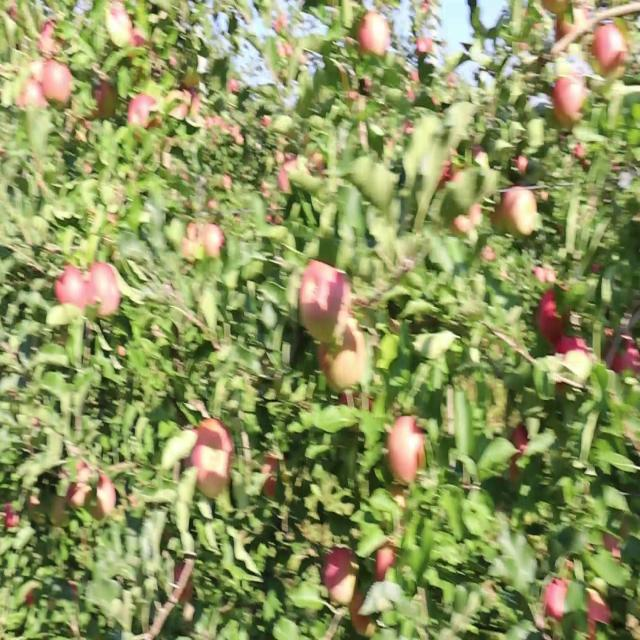apple: (188, 419, 236, 501), (300, 263, 345, 334), (388, 419, 427, 485), (324, 547, 358, 610), (552, 78, 586, 132), (88, 263, 121, 318), (596, 21, 628, 76), (340, 284, 365, 354), (332, 348, 368, 396), (360, 14, 392, 59), (556, 7, 591, 48), (540, 291, 566, 345), (44, 63, 73, 107), (340, 305, 366, 354), (56, 270, 87, 311), (128, 92, 156, 137), (508, 426, 530, 482), (352, 590, 377, 638), (588, 590, 612, 638), (64, 469, 92, 510), (172, 561, 195, 608), (612, 341, 640, 379), (20, 71, 47, 108), (376, 540, 399, 583), (544, 583, 568, 624), (516, 191, 537, 236), (556, 334, 591, 361), (452, 206, 483, 236), (436, 156, 463, 190), (40, 21, 64, 59), (96, 78, 118, 119), (96, 476, 116, 521), (72, 462, 92, 505), (264, 455, 282, 500), (20, 78, 47, 108), (68, 476, 91, 510), (280, 156, 299, 196), (204, 227, 225, 261), (556, 334, 584, 359), (504, 191, 521, 231), (320, 341, 338, 377), (512, 426, 530, 462), (604, 533, 624, 565), (108, 7, 131, 34), (168, 92, 188, 123), (184, 227, 200, 265), (308, 149, 327, 180), (572, 142, 591, 172), (128, 28, 149, 53), (184, 227, 201, 256), (108, 7, 128, 27), (32, 63, 45, 91), (8, 504, 21, 532), (512, 156, 530, 176), (24, 590, 37, 608), (8, 7, 20, 23)
